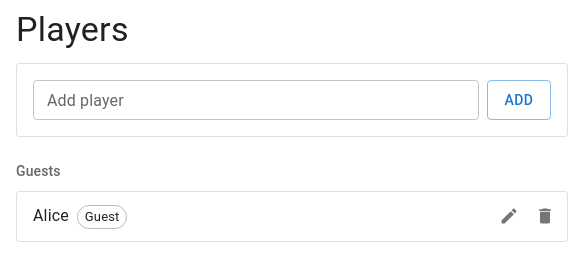
Test: PlayersListPage › cancels an edit without saving
Expected: the text "Alice" is shown, [33,204,69,228]
What coordinates should you click on to do the following:
click the button named "edit alice"
I would click on:
 (509, 216)
Its box is [491,198,527,234].
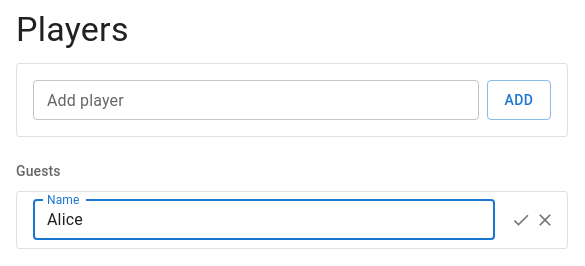
What coordinates should you click on to do the following:
click the button named "cancel edit"
I would click on:
 (545, 220)
Its box is [527,202,563,238].
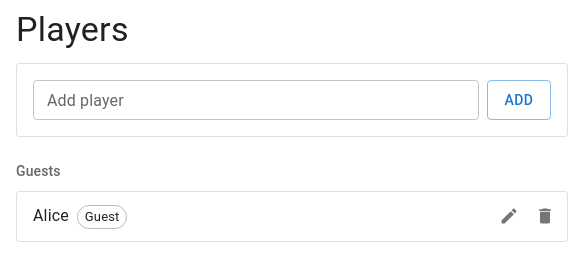
Expected: the text "Alice" is shown, [33,204,69,228]
